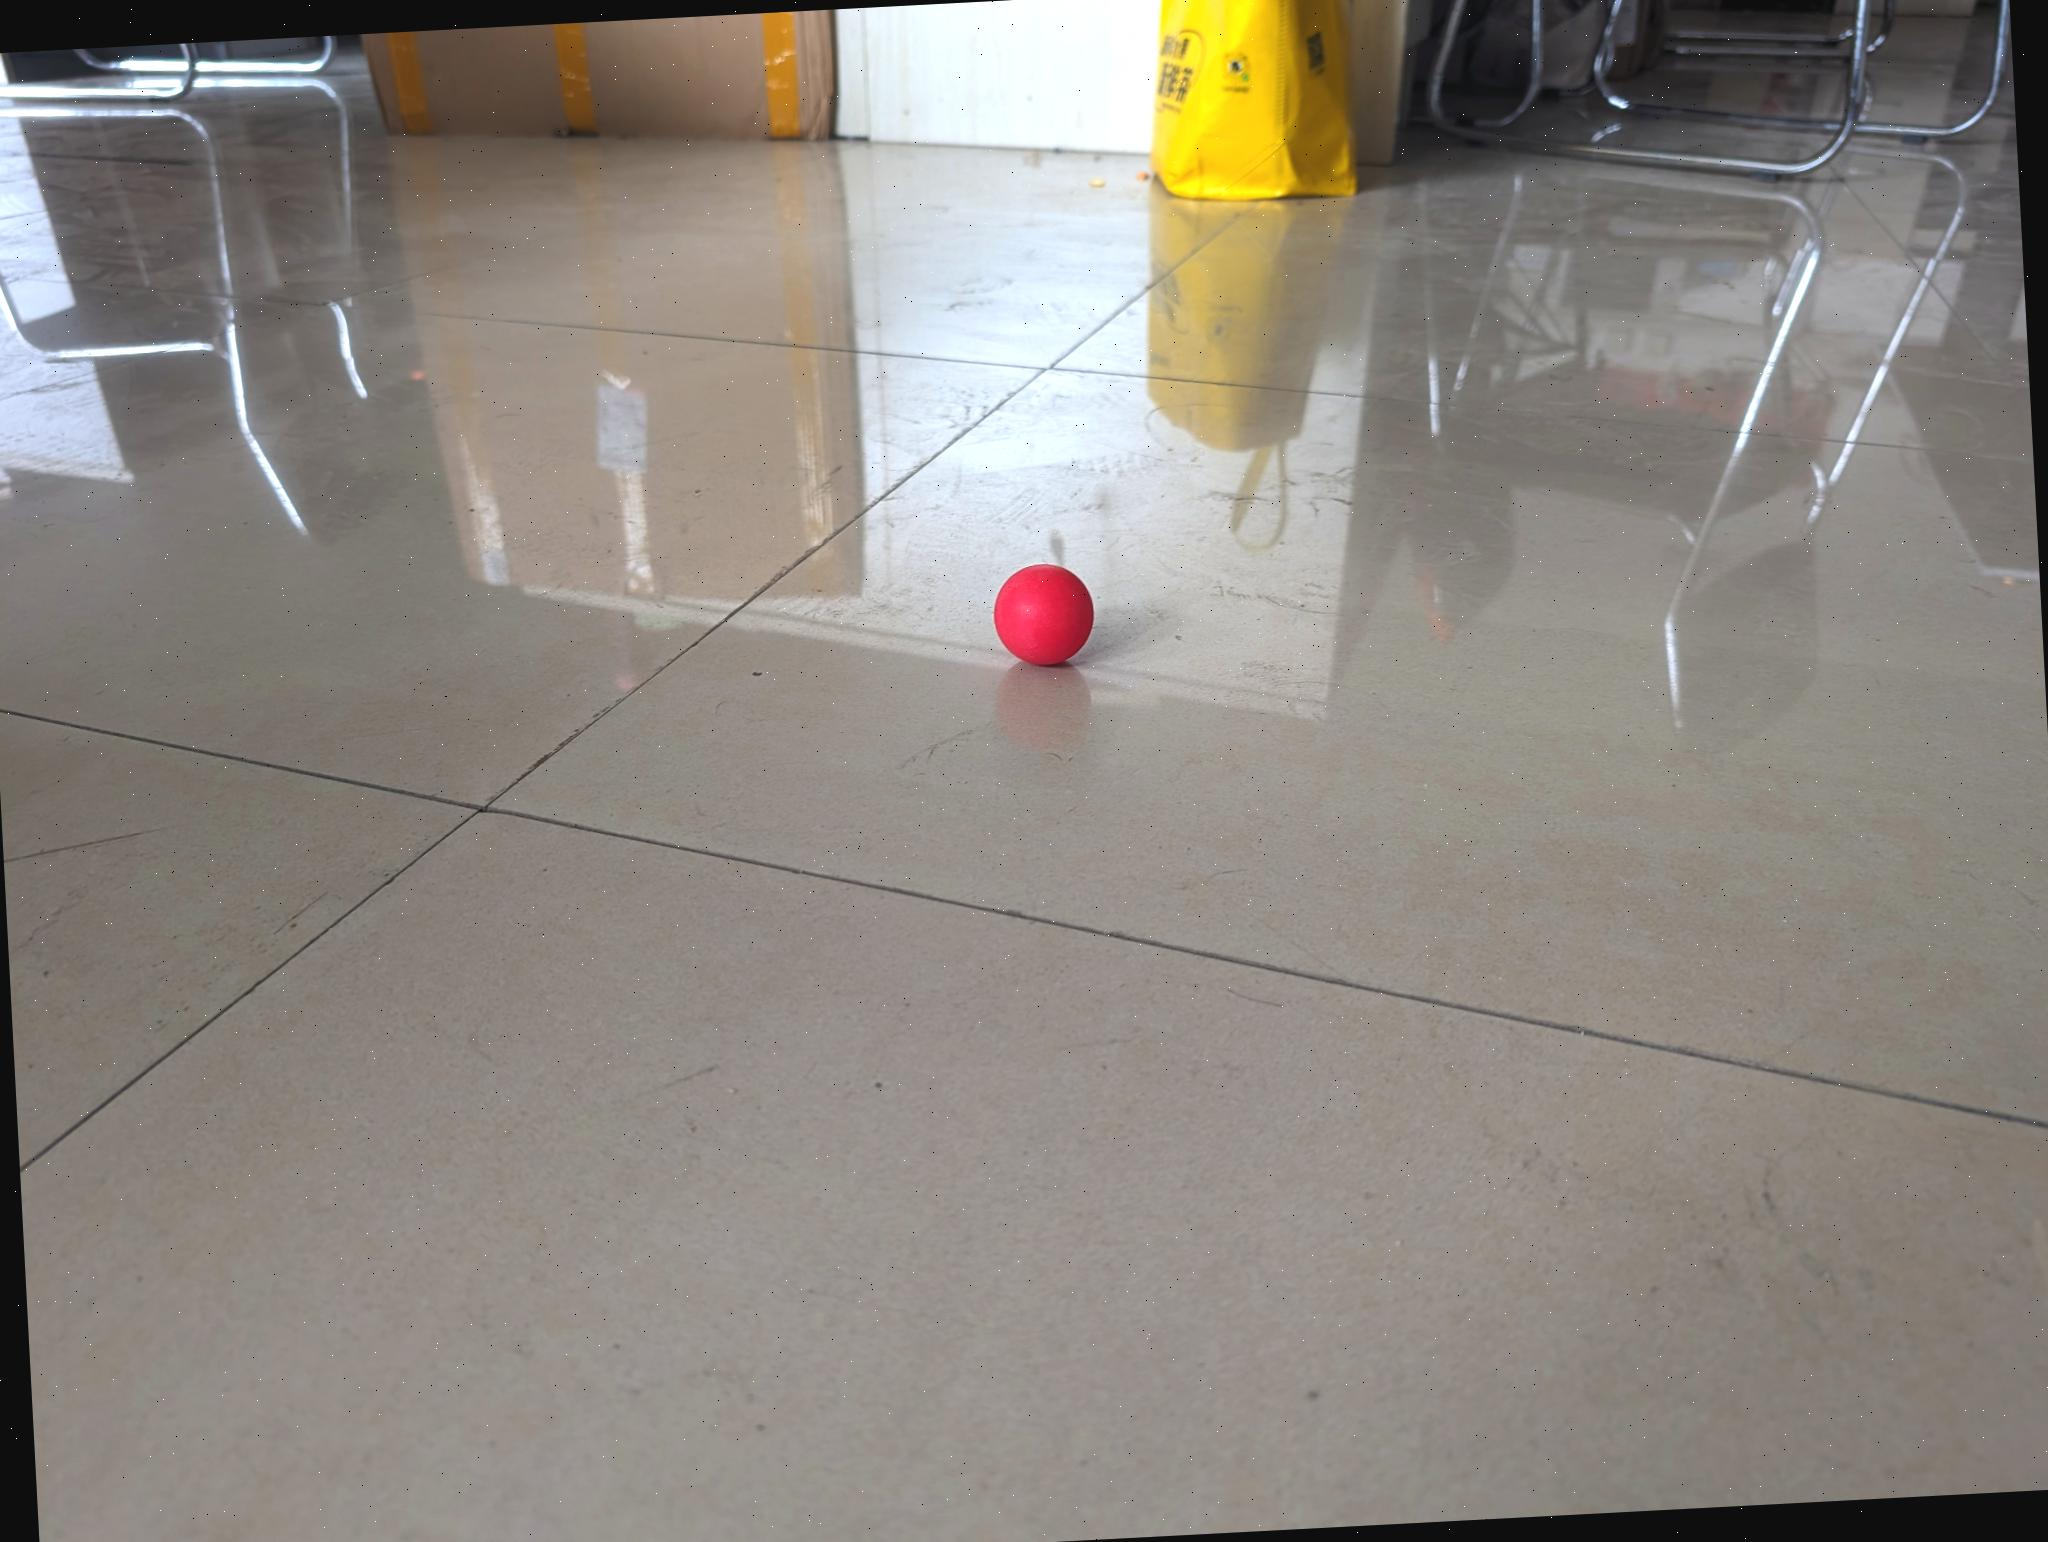ball: (994, 554, 1093, 672)
